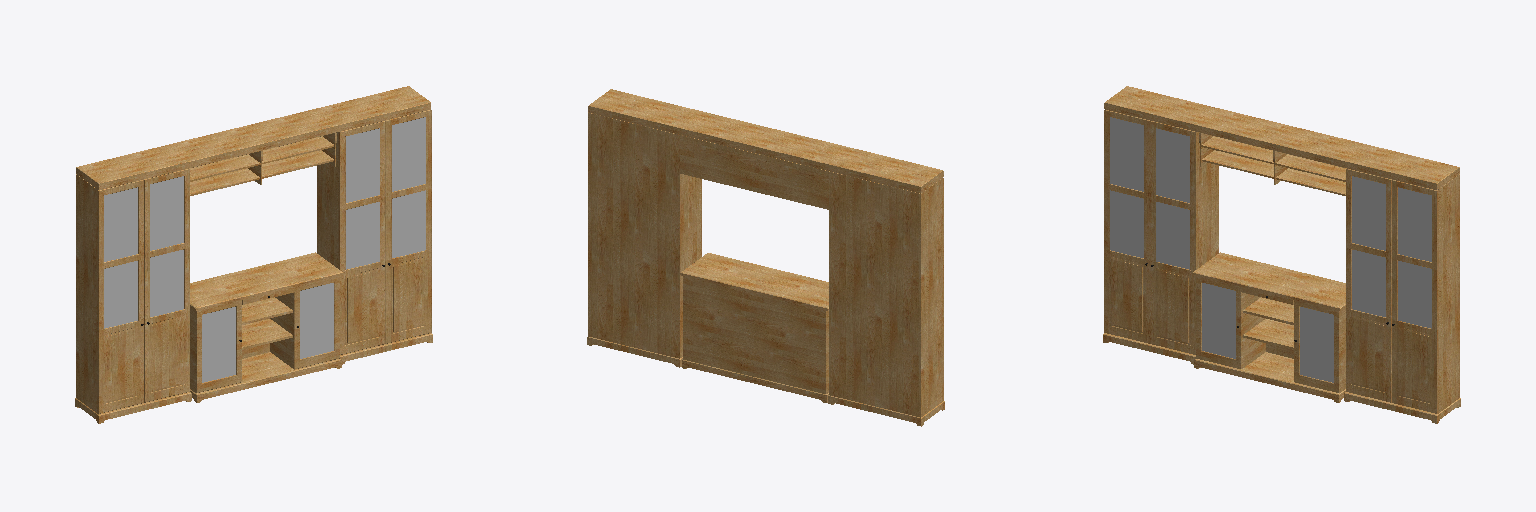
3 renders of one model, left to right at view 1: azimuth 30°, elevation 25°; view 2: azimuth 150°, elevation 25°; view 3: azimuth 330°, elevation 25°, orthographic.
Visible parts, largest first — view 1: left_doors_Cube.005_white_wood_butcherblock_tile, right_doors_Cube.002_white_wood_butcherblock_tile, principal_Cube_white_wood_butcherblock_tile, top_Cube.007_white_wood_butcherblock_tile, glasses_doorL_Cube.009_glass.001, glasses_doorR_Cube.010_glass.001, glases_Cube.006_glass.001, shelves_Cube.008_white_wood_butcherblock_tile; view 2: left_doors_Cube.005_white_wood_butcherblock_tile, right_doors_Cube.002_white_wood_butcherblock_tile, principal_Cube_white_wood_butcherblock_tile, top_Cube.007_white_wood_butcherblock_tile, shelves_Cube.008_white_wood_butcherblock_tile; view 3: right_doors_Cube.002_white_wood_butcherblock_tile, left_doors_Cube.005_white_wood_butcherblock_tile, principal_Cube_white_wood_butcherblock_tile, top_Cube.007_white_wood_butcherblock_tile, glasses_doorR_Cube.010_glass.001, glasses_doorL_Cube.009_glass.001, glases_Cube.006_glass.001, shelves_Cube.008_white_wood_butcherblock_tile.
Part boxes in pixels (left/top/right/bottom): left_doors_Cube.005_white_wood_butcherblock_tile: left=75, top=168, right=191, bottom=423; right_doors_Cube.002_white_wood_butcherblock_tile: left=317, top=110, right=432, bottom=364; principal_Cube_white_wood_butcherblock_tile: left=190, top=252, right=342, bottom=402; top_Cube.007_white_wood_butcherblock_tile: left=76, top=86, right=430, bottom=189; glasses_doorL_Cube.009_glass.001: left=104, top=176, right=183, bottom=328; glasses_doorR_Cube.010_glass.001: left=346, top=117, right=425, bottom=269; glases_Cube.006_glass.001: left=202, top=283, right=333, bottom=382; shelves_Cube.008_white_wood_butcherblock_tile: left=190, top=133, right=336, bottom=195; left_doors_Cube.005_white_wood_butcherblock_tile: left=828, top=171, right=944, bottom=426; right_doors_Cube.002_white_wood_butcherblock_tile: left=587, top=113, right=701, bottom=367; principal_Cube_white_wood_butcherblock_tile: left=680, top=253, right=828, bottom=402; top_Cube.007_white_wood_butcherblock_tile: left=588, top=89, right=943, bottom=193; shelves_Cube.008_white_wood_butcherblock_tile: left=680, top=135, right=828, bottom=209; right_doors_Cube.002_white_wood_butcherblock_tile: left=1344, top=168, right=1460, bottom=423; left_doors_Cube.005_white_wood_butcherblock_tile: left=1103, top=110, right=1218, bottom=364; principal_Cube_white_wood_butcherblock_tile: left=1193, top=252, right=1345, bottom=402; top_Cube.007_white_wood_butcherblock_tile: left=1104, top=86, right=1459, bottom=189; glasses_doorR_Cube.010_glass.001: left=1352, top=176, right=1431, bottom=328; glasses_doorL_Cube.009_glass.001: left=1110, top=117, right=1189, bottom=269; glases_Cube.006_glass.001: left=1202, top=283, right=1333, bottom=382; shelves_Cube.008_white_wood_butcherblock_tile: left=1199, top=133, right=1345, bottom=195.
Size of the model in its own units: 301 by 206 by 42.95.
3 materials, 1 textured.